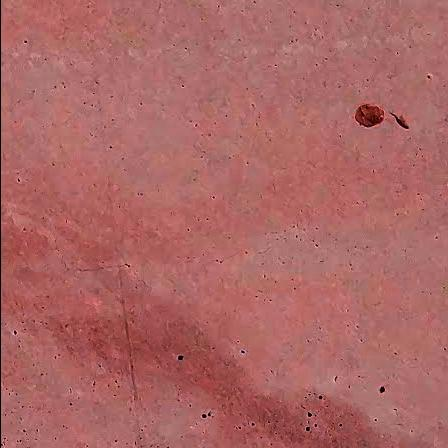spalling: (350, 95, 390, 136)
